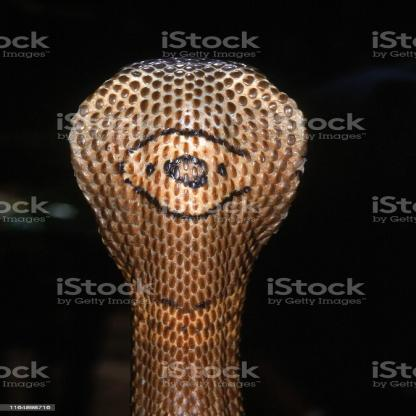snakes: (66, 53, 302, 416)
